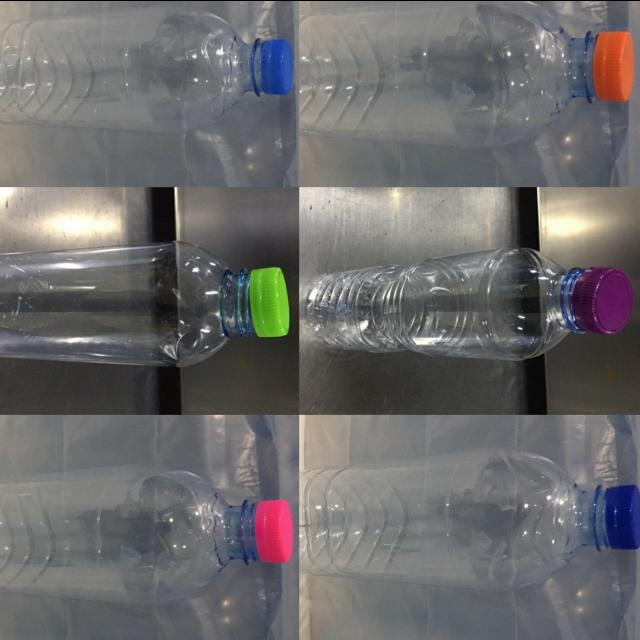plastik: (299, 0, 634, 147), (300, 447, 640, 590), (0, 464, 294, 604), (0, 5, 294, 133), (307, 247, 633, 360), (0, 241, 290, 365)
